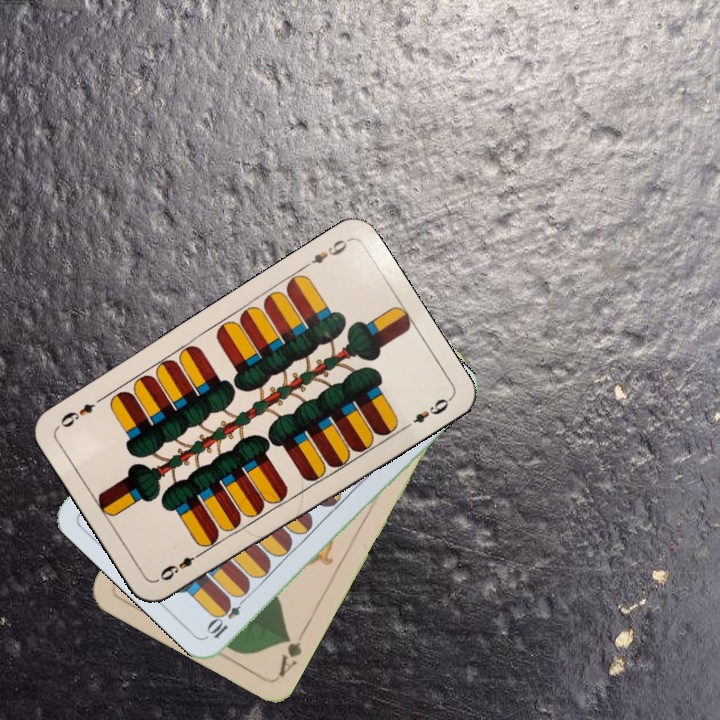E10: (204, 590, 251, 641)
E9: (153, 547, 207, 584), (298, 235, 352, 272)
GA: (274, 625, 309, 680)
